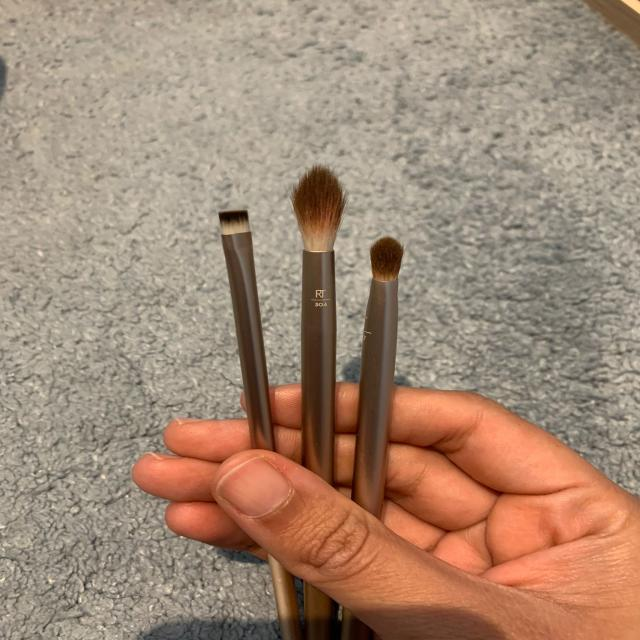brush: (200, 136, 439, 640)
